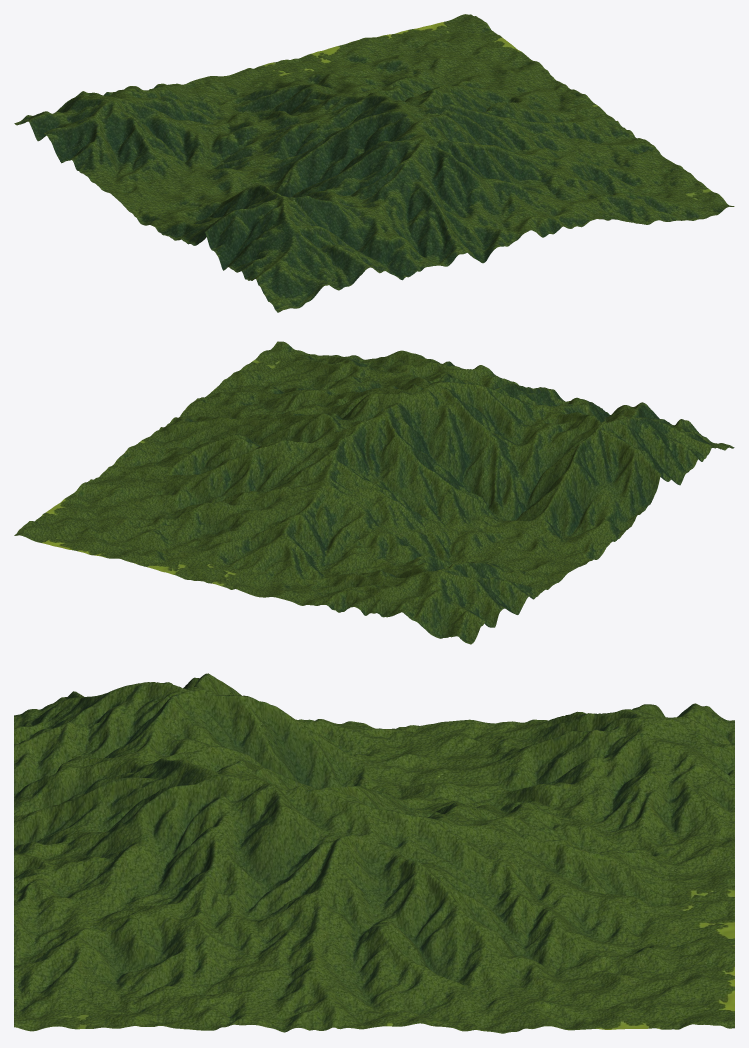
The model's file is bukid-opt.glb.
3 renders of one model, top to bottom at view 1: azimuth 30°, elevation 25°; view 2: azimuth 150°, elevation 25°; view 3: azimuth 270°, elevation 25°, orthographic. The views are drawn at different scales.
Parts seen in each view (by area): view 1: terrain; view 2: terrain; view 3: terrain.
Part boxes in pixels (left/top/right/bottom): terrain: left=14, top=14, right=734, bottom=312; terrain: left=14, top=341, right=734, bottom=644; terrain: left=14, top=673, right=734, bottom=1033.
Bounding box in the file's own units: 0.1 × 0.0164 × 0.1.
1 material, 1 textured.
